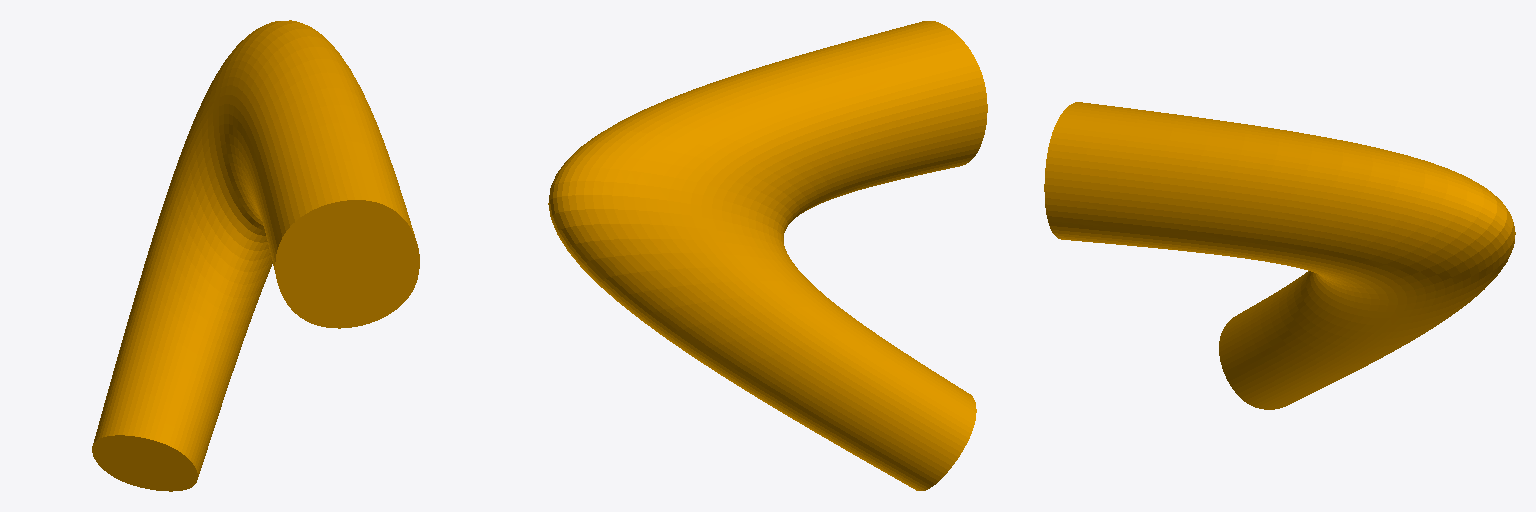
The robot description file, URDF, robot "object":
<robot name="object">
  <link name="object">
    <visual>
      <origin xyz="0 0 0"/>
      <geometry>
        <mesh filename="visual.obj" scale="1 1 1"/>
      </geometry>
    </visual>
    <collision>
      <origin xyz="0 0 0"/>
      <geometry>
        <mesh filename="visual.obj" scale="1 1 1"/>
      </geometry>
    </collision>
    <inertial>
      <mass value="0.05"/>
      <inertia ixx="7.781167178096376e-05" iyy="4.8776308625283636e-05" izz="6.570132373764005e-05" ixy="-1.0155611702553292e-05" ixz="-1.5541223965173168e-05" iyz="8.099785464874403e-06"/>
    </inertial>
  </link>
</robot>

--- What the picture shows (computed from the rendered views, not written in the file) ---
Views: 3 orthographic renders of the robot side by side, from view 1: azimuth 30°, elevation 25°; view 2: azimuth 150°, elevation 25°; view 3: azimuth 270°, elevation 25°.
Robot: object — 1 links, 0 joints (none); root link object; default pose: all joints at 0.
Links seen in each view (by area): view 1: object; view 2: object; view 3: object.
Boxes of the visible links, box(x1,y1,x2,y2) form: object: box(92, 20, 419, 491); object: box(548, 21, 987, 490); object: box(1044, 102, 1515, 409).
Bounding box of the posed robot: 0.0978 × 0.1327 × 0.1072 m (x, y, z).
1 mesh visuals loaded from 1 distinct referenced files (1 OBJ).
